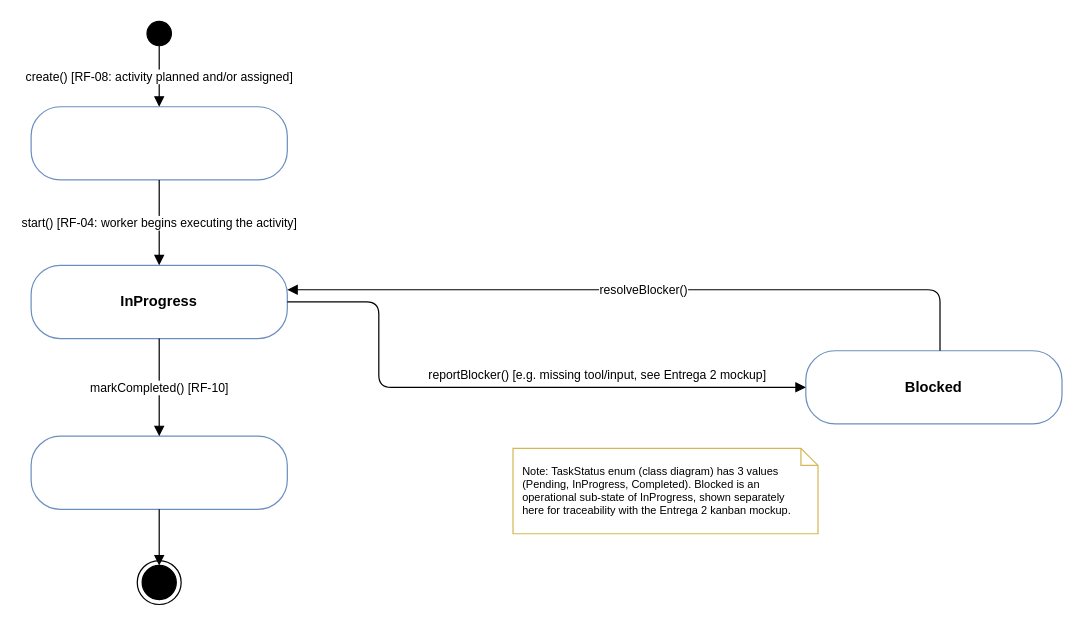
Image size: 1083x626. Some labels were removed from this diagram. Here are the shapes that lost their labels. From the top down, the centre of each, then its label:
point 158,143: Pending (To Do)
point 158,472: Completed
